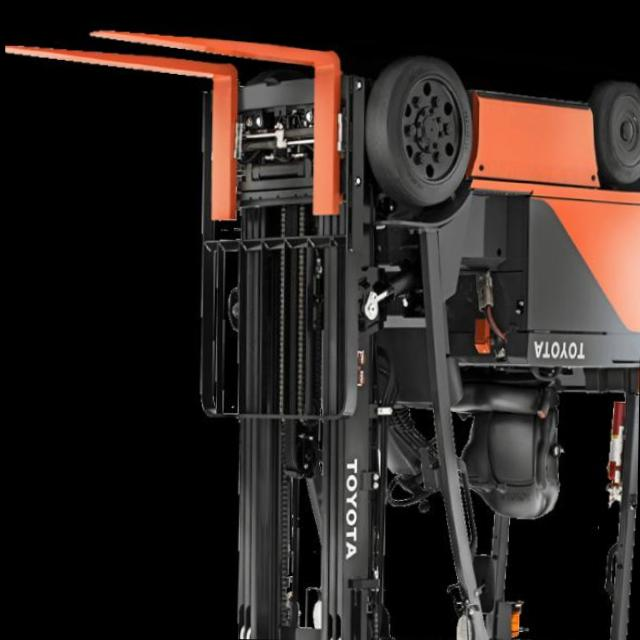forklift: (165, 38, 640, 640)
